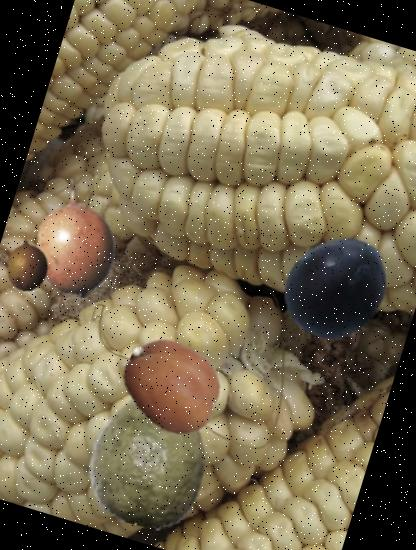Apricot: (108, 323, 235, 450)
Granadilla: (1, 164, 148, 311), (0, 228, 62, 298)
Guava: (66, 376, 233, 542)
Plum: (268, 218, 404, 354)
